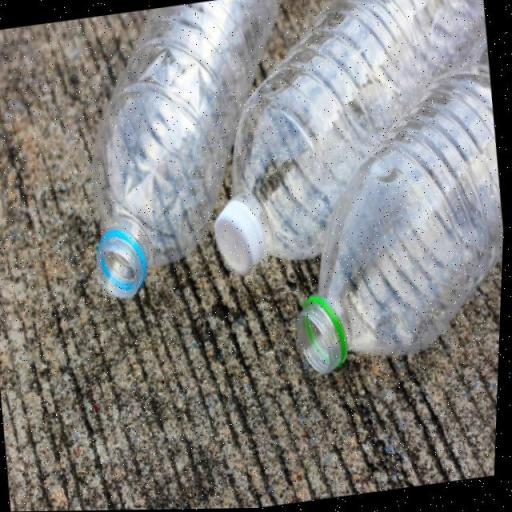plastic: (265, 25, 511, 379), (208, 0, 511, 270), (67, 0, 313, 303)
